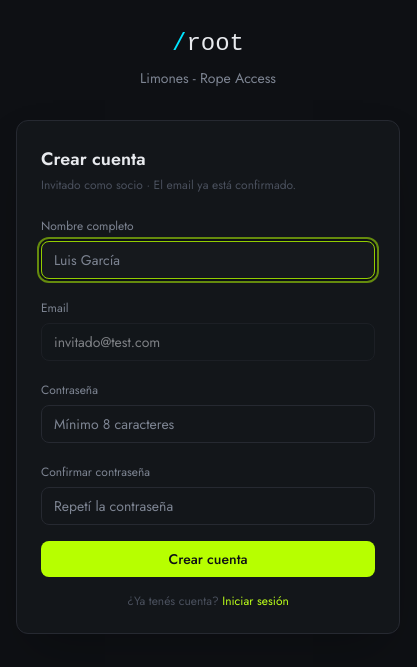
Test: RegistroPage — con invitación válida › valida que las contraseñas coincidan
Expected: the password field with placeholder "Mínimo 8 caracteres" is shown, [41,405,375,443]
Type "Juan" into the field with placeholder "Luis García".
click(208, 260); type("Juan")  # box [41,241,375,279]
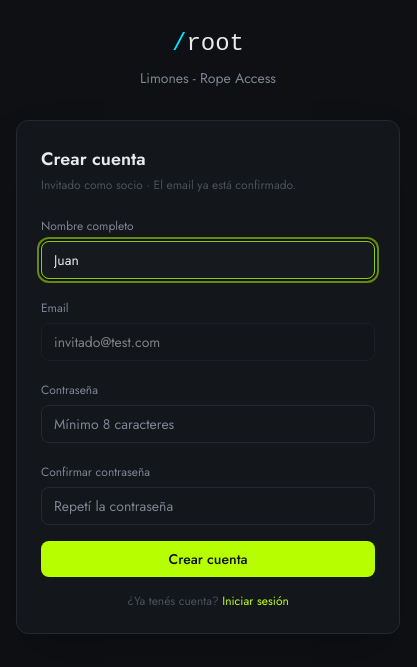
Type "password123" into the password field with placeholder "Mínimo 8 caracteres".
click(208, 424); type("password123")  # box [41,405,375,443]
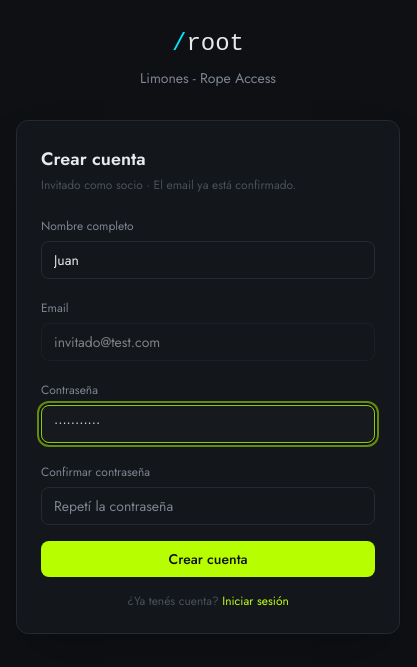
Type "diferente123" into the password field with placeholder "Repetí la contraseña".
click(208, 506); type("diferente123")  # box [41,487,375,525]
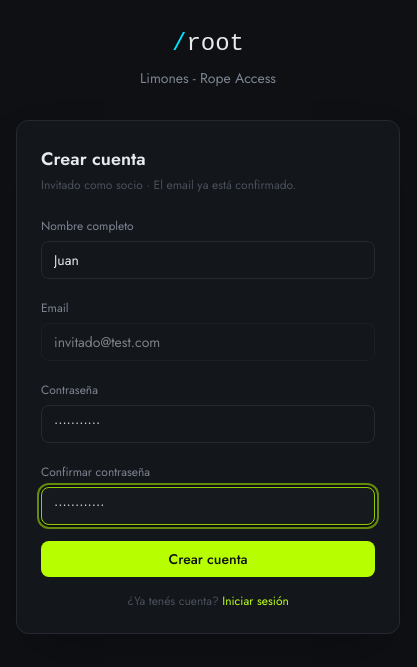
Submit the form with placeholder "mínimo 8", box [41,213,375,577]
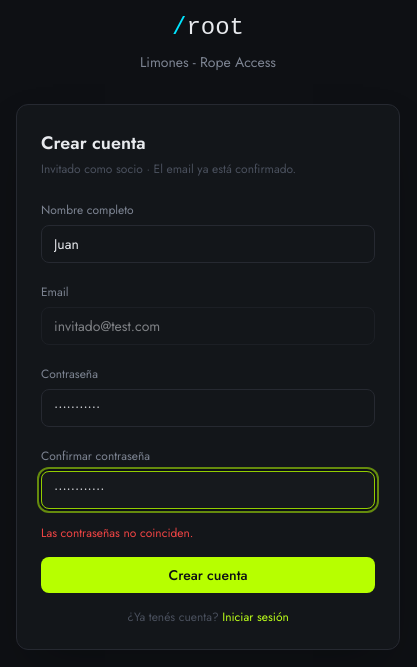
Expected: the text "Las contraseñas no coinciden." is shown, [41,524,193,542]
